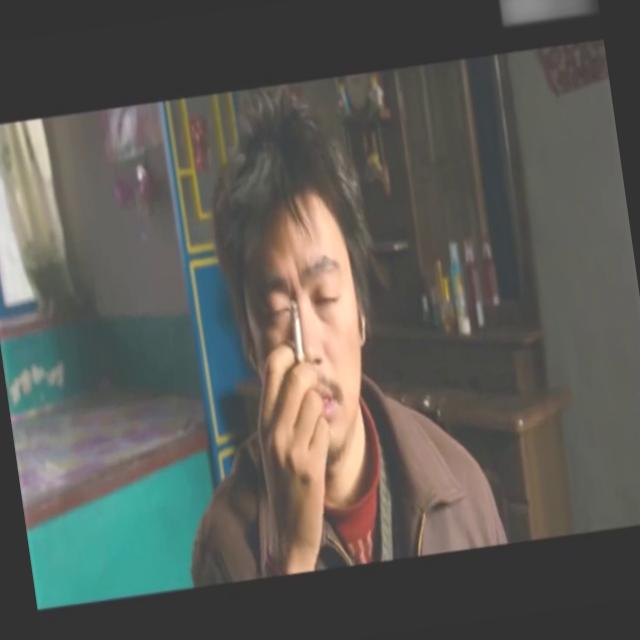smoke: (290, 294, 307, 364)
